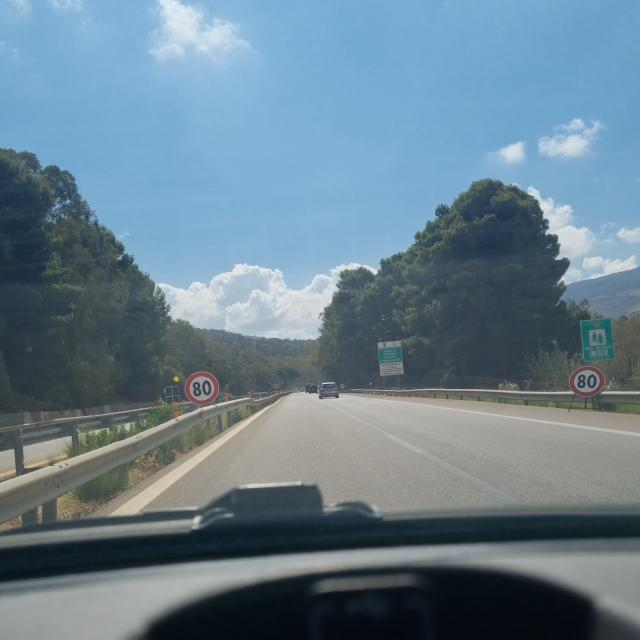forb_speed_over_80: (186, 372, 220, 407), (569, 367, 605, 398)
